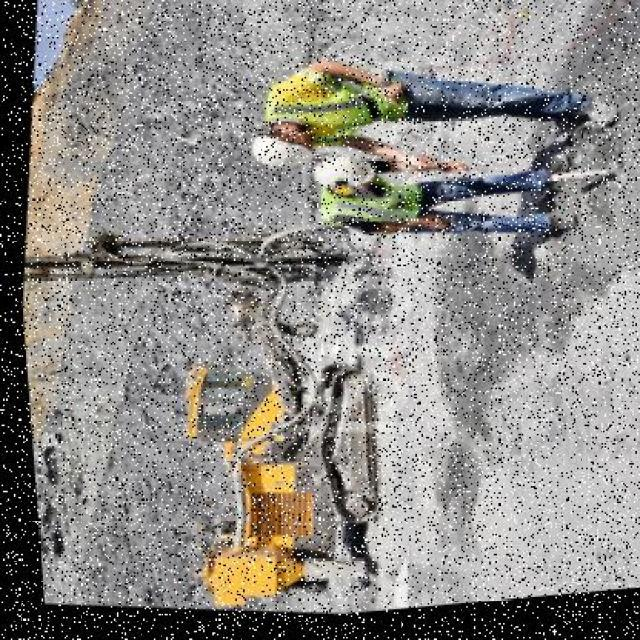helmet: (245, 132, 318, 178), (306, 154, 379, 200)
vest: (259, 65, 411, 149)
